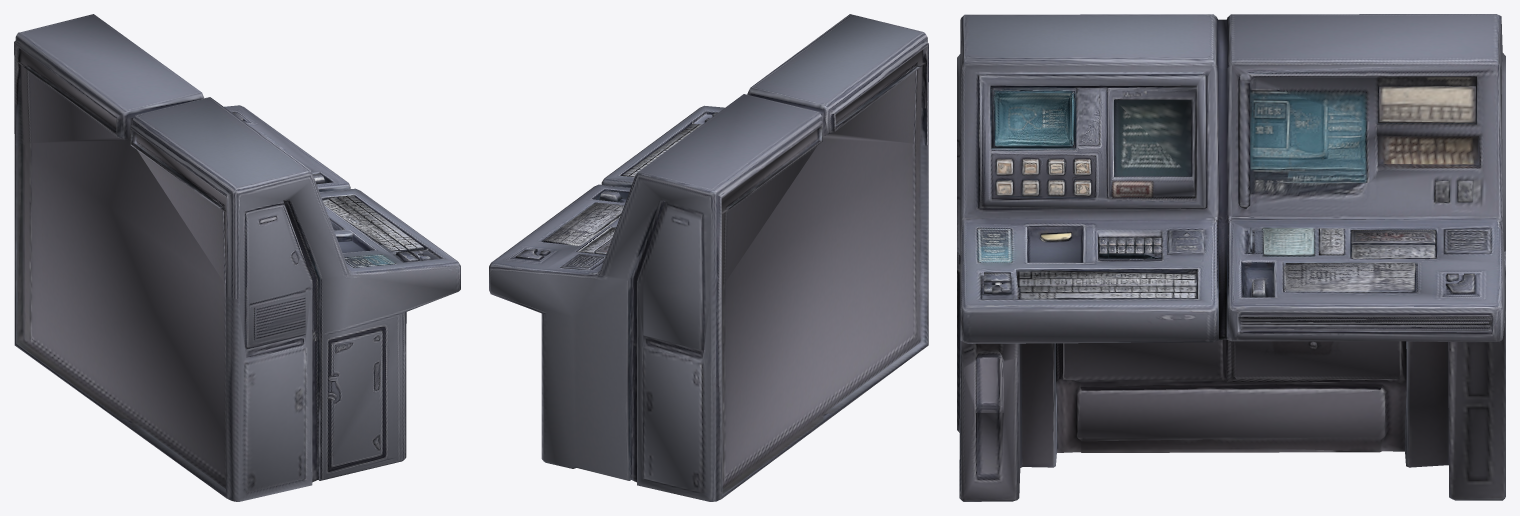
File: tripo_convert_41a1563b-1fc7-4114-bf00-6f7c95270e84.fbx
3 views of the same model, side by side, from view 1: azimuth 30°, elevation 25°; view 2: azimuth 150°, elevation 25°; view 3: azimuth 270°, elevation 25° (orthographic). The views are drawn at different scales.
Visible parts, largest first — view 1: tripo_node_41a1563b; view 2: tripo_node_41a1563b; view 3: tripo_node_41a1563b.
Boxes of the visible parts, box(x1,y1,x2,y2) form: tripo_node_41a1563b: box(14, 14, 460, 501); tripo_node_41a1563b: box(489, 14, 928, 501); tripo_node_41a1563b: box(957, 14, 1505, 501).
Size of the model in its own units: 0.6074 by 0.7793 by 0.998.
